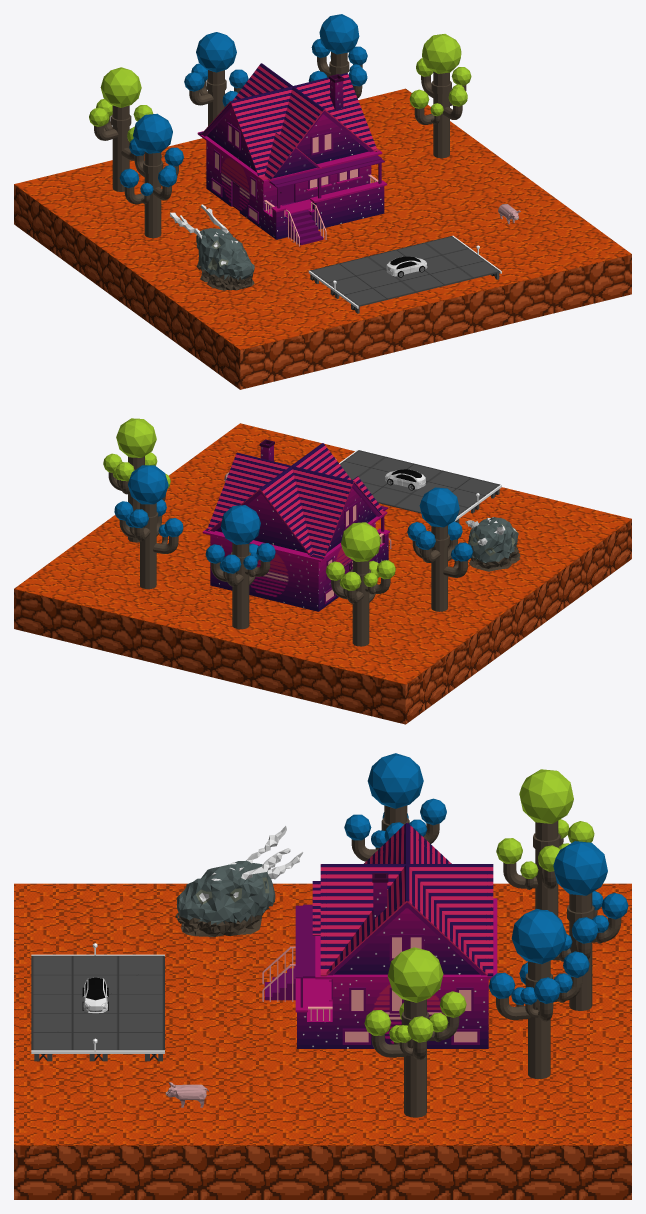
The picture shows the model from 3 angles, top to bottom: view 1: azimuth 30°, elevation 25°; view 2: azimuth 150°, elevation 25°; view 3: azimuth 270°, elevation 25°; orthographic projection. The views are drawn at different scales.
Parts seen in each view (by area): view 1: Cube.001, Cube.156, OBJRANDOM_METEORITE, VEHICLES_TESLA; view 2: Cube.001, Cube.156, OBJRANDOM_METEORITE, VEHICLES_TESLA; view 3: Cube.001, Cube.156, OBJRANDOM_METEORITE, VEHICLES_TESLA, ANIMAL_CERDO.
Boxes of the visible parts, x1,y1,x2,y2 form: Cube.001: [14, 14, 631, 389]; Cube.156: [197, 63, 387, 246]; OBJRANDOM_METEORITE: [170, 204, 254, 290]; VEHICLES_TESLA: [386, 256, 427, 277]; Cube.001: [14, 418, 631, 724]; Cube.156: [202, 439, 391, 611]; OBJRANDOM_METEORITE: [465, 517, 520, 571]; VEHICLES_TESLA: [385, 469, 425, 490]; Cube.001: [14, 753, 631, 1199]; Cube.156: [262, 823, 497, 1048]; OBJRANDOM_METEORITE: [175, 826, 303, 936]; VEHICLES_TESLA: [82, 977, 108, 1013]; ANIMAL_CERDO: [165, 1082, 208, 1107].
Size of the model in its own units: 4000 by 1642 by 4000.
Materials: 35 (6 with a texture image).
